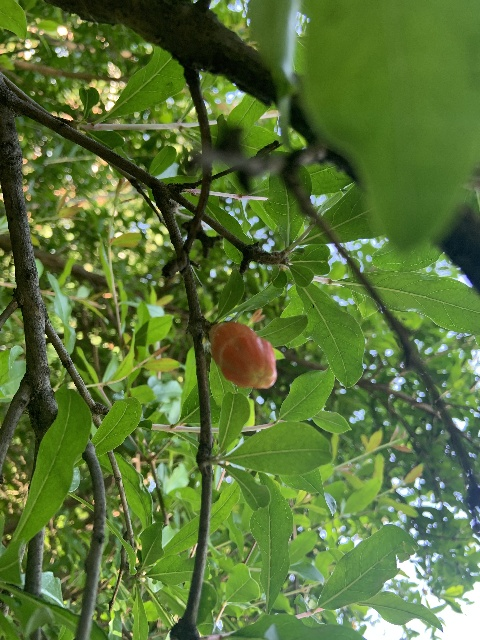bud: (210, 321, 277, 389)
